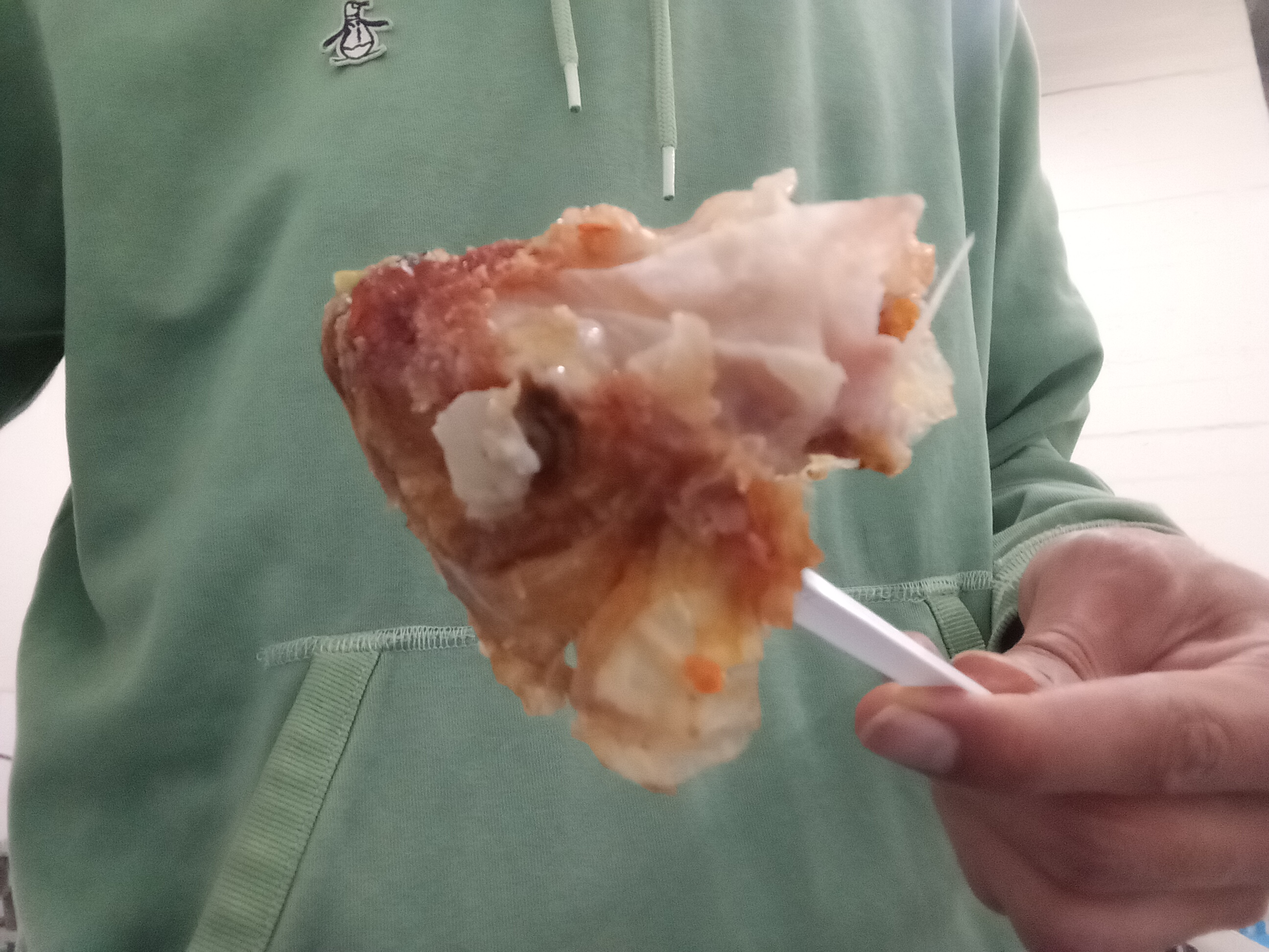Organico: (319, 167, 956, 797)
